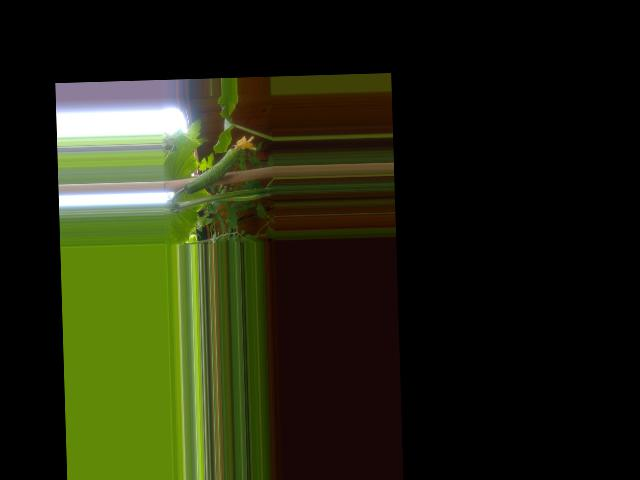cucumber: (183, 134, 258, 193)
